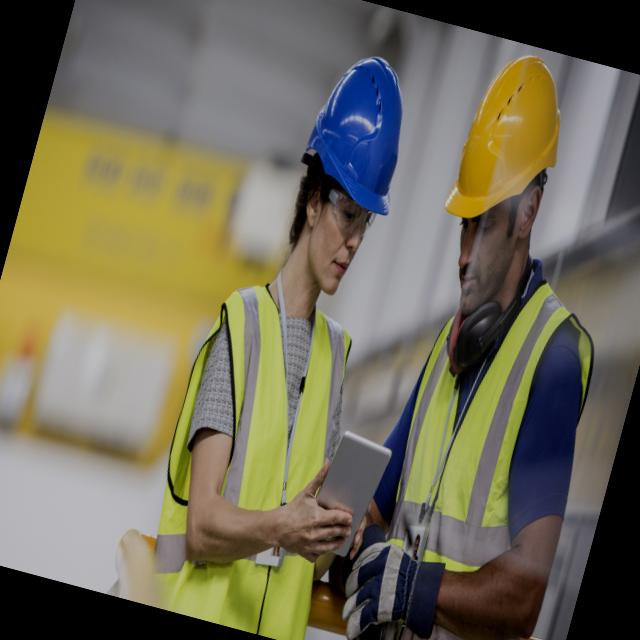goggles: (298, 174, 390, 248)
helmet: (439, 38, 583, 245), (290, 40, 430, 218)
no-goggles: (442, 194, 508, 266)
vest: (340, 249, 619, 640), (127, 275, 390, 640)
